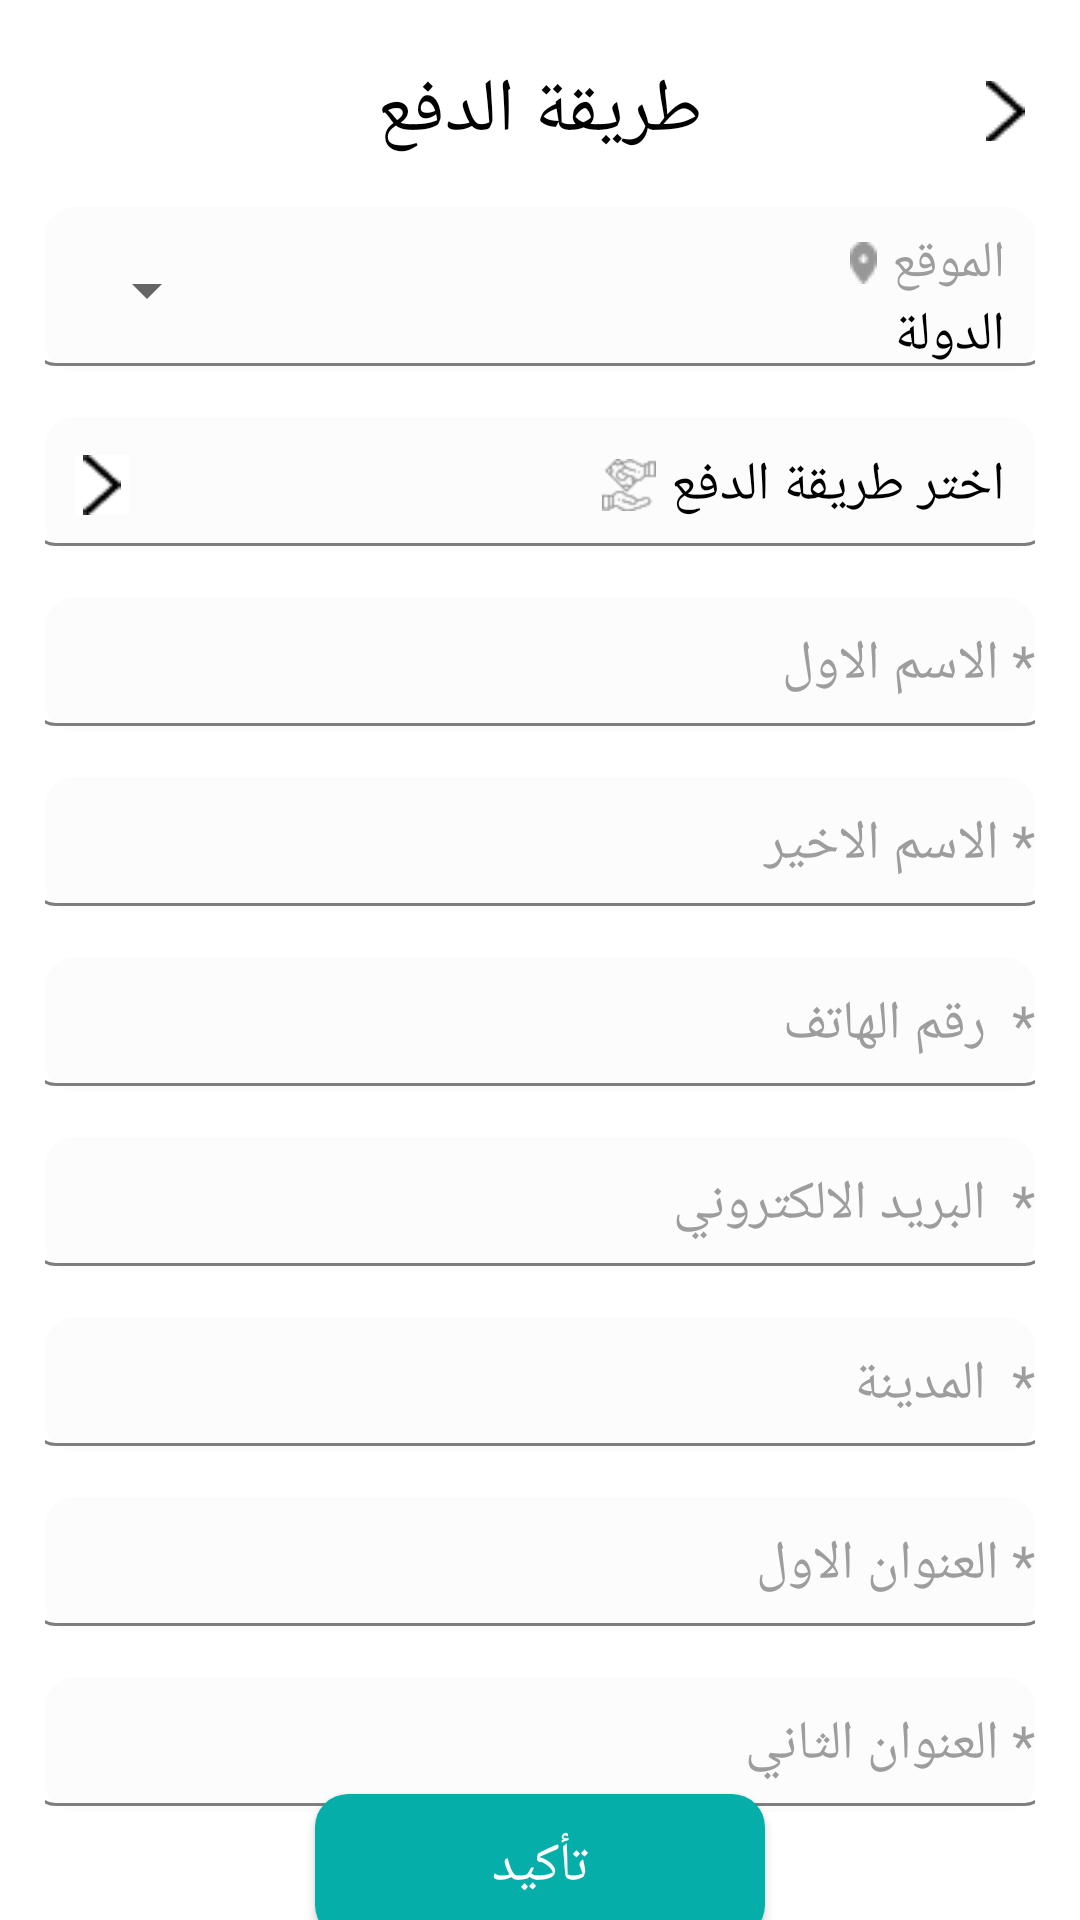

Screen size 1080 x 1920. Icon name, then its box in pixels as (x1, y1, x2, y2):
back: (986, 81, 1025, 141), (83, 455, 121, 515)
